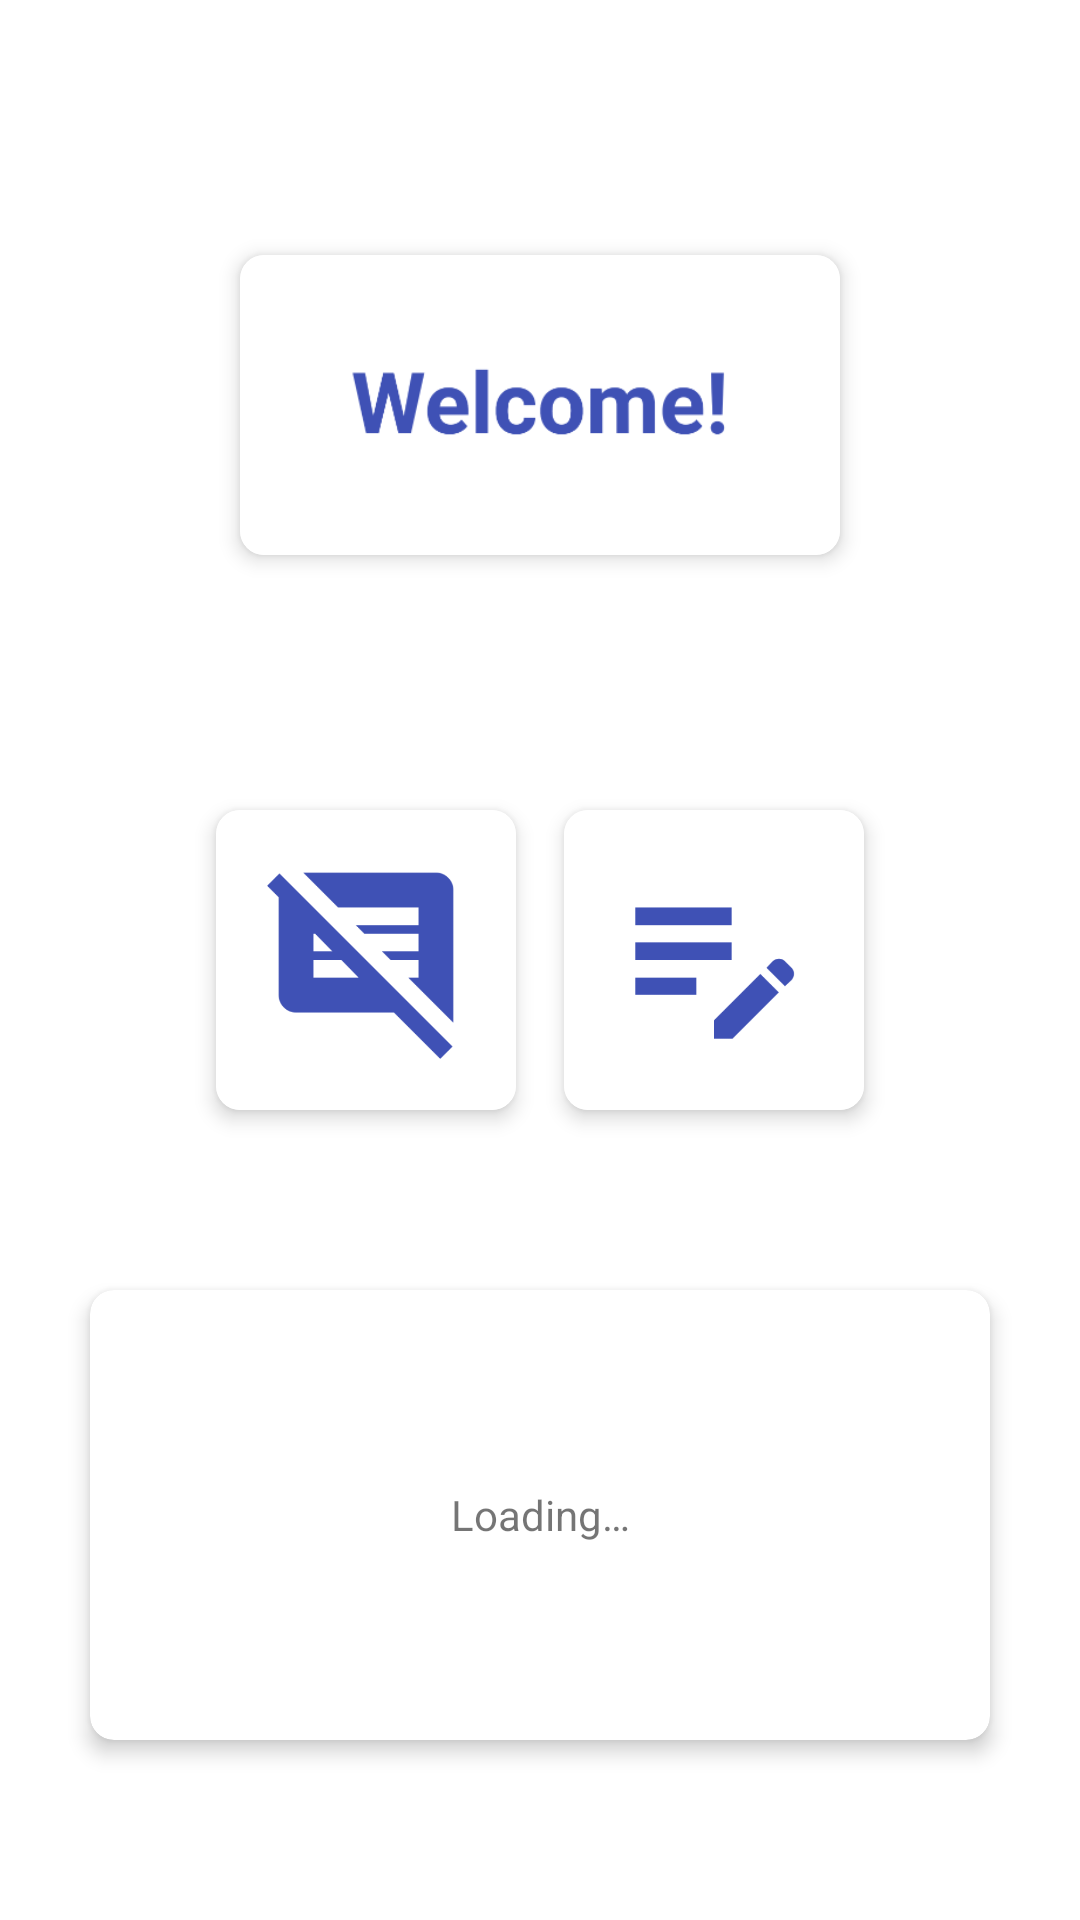

Point at icon controls on the screen. Image size 1080 × 1920, points as (x=x, y=y).
Chat: (x=366, y=960)
Notes: (x=714, y=960)
